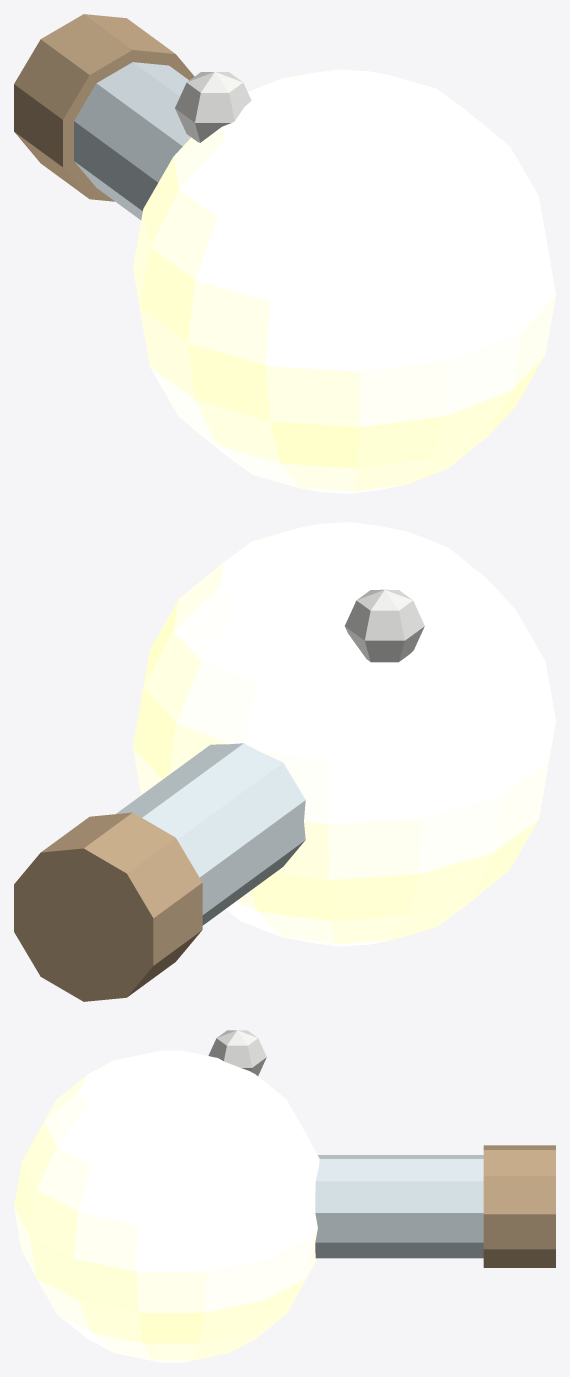
File: swiftness_held.gltf
3 renders of one model, top to bottom at view 1: azimuth 30°, elevation 25°; view 2: azimuth 150°, elevation 25°; view 3: azimuth 270°, elevation 25°, orthographic. The views are drawn at different scales.
Visible parts, largest first — view 1: alchemy_swiftness_held; view 2: alchemy_swiftness_held; view 3: alchemy_swiftness_held.
Boxes of the visible parts, left/top/right/bottom form: alchemy_swiftness_held: left=14, top=14, right=555, bottom=493; alchemy_swiftness_held: left=14, top=522, right=555, bottom=1001; alchemy_swiftness_held: left=14, top=1030, right=555, bottom=1362.
Bounding box in the file's own units: 0.0936 × 0.097 × 0.165.
